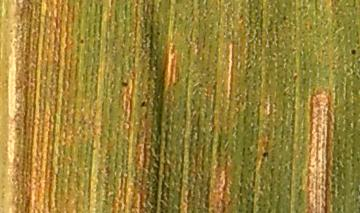tarspot: (349, 47, 357, 57), (139, 99, 147, 108), (120, 81, 129, 89), (262, 151, 270, 159), (78, 38, 85, 46), (154, 30, 161, 36), (282, 14, 287, 22)
